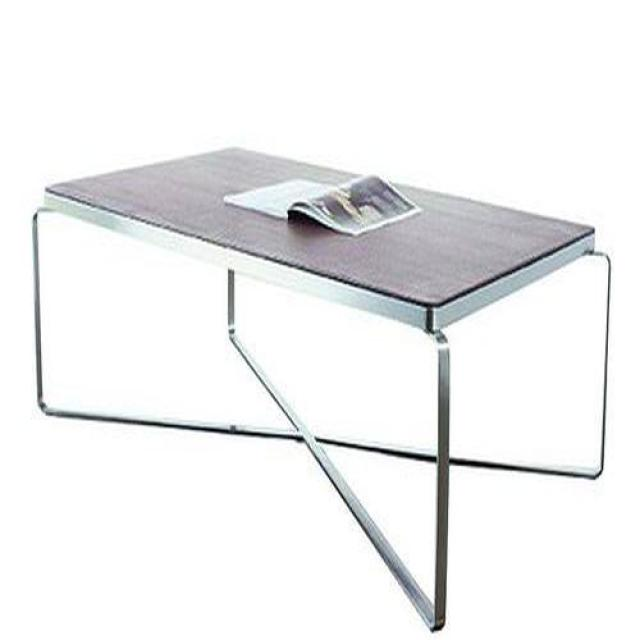table: (31, 148, 612, 635)
